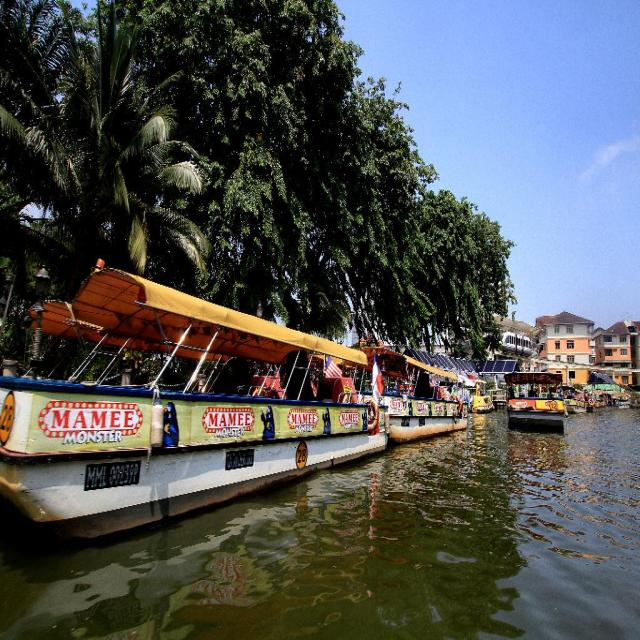Boat: (15, 258, 400, 527), (362, 343, 470, 447), (403, 344, 495, 414), (560, 368, 633, 422), (505, 366, 568, 425)
